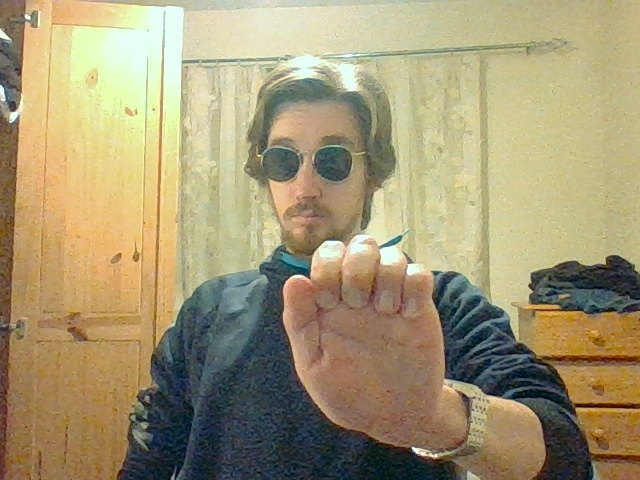your: (281, 234, 445, 399)
